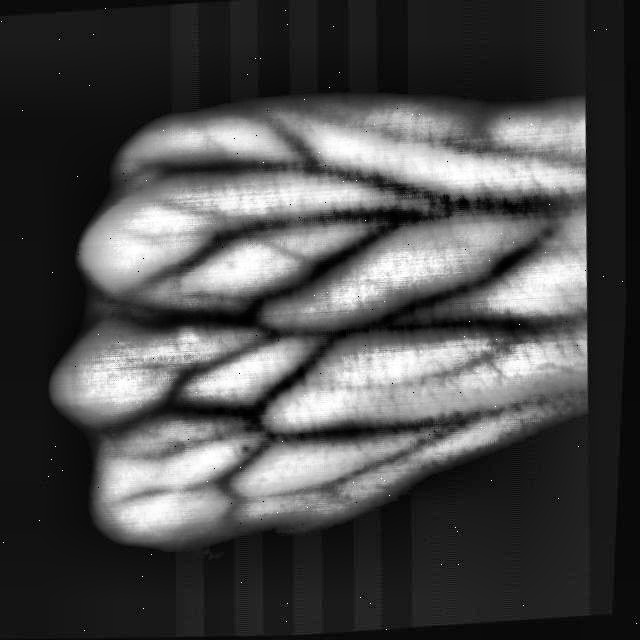Vein: (326, 152, 548, 223), (238, 206, 431, 244)
